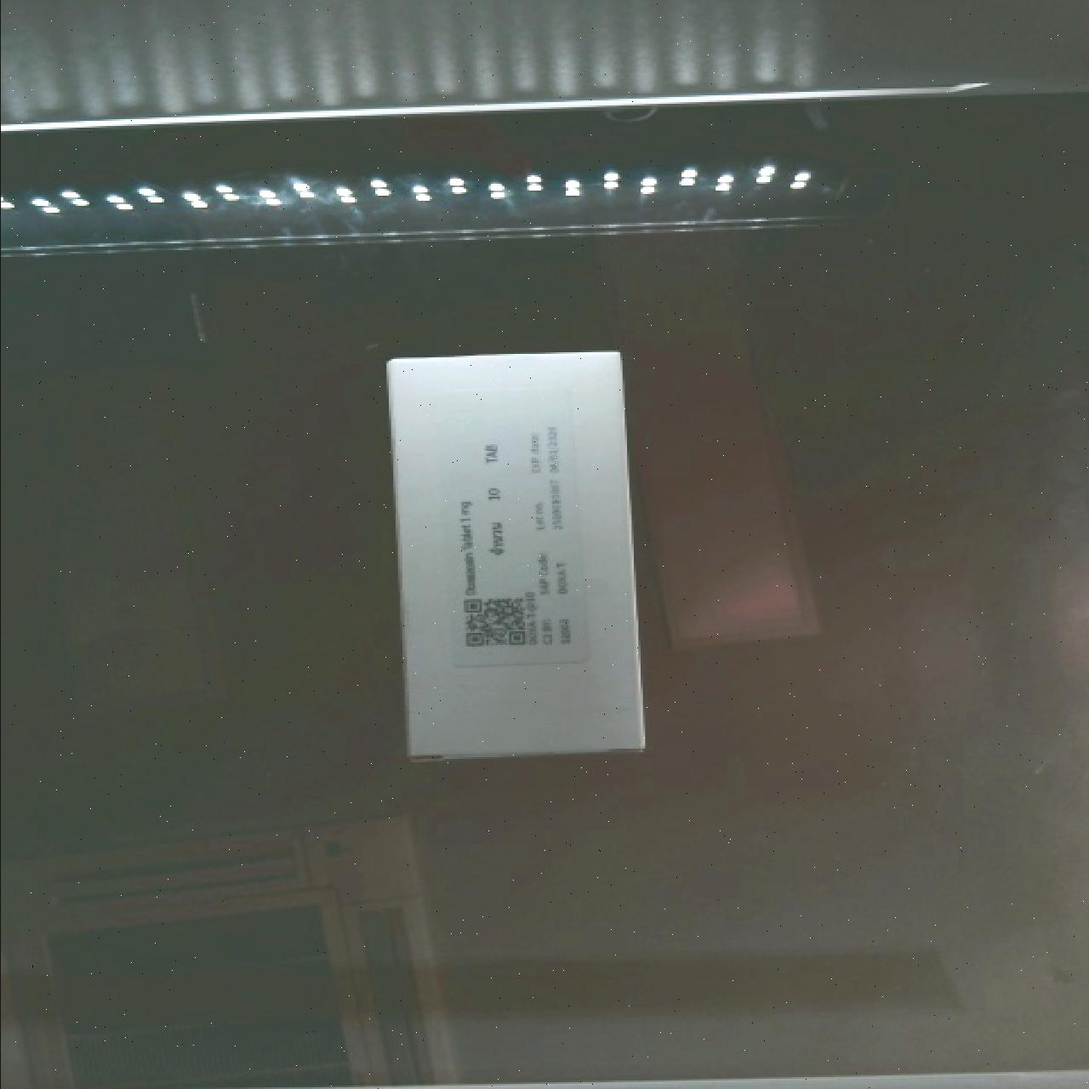qr_code: (450, 574, 548, 665)
